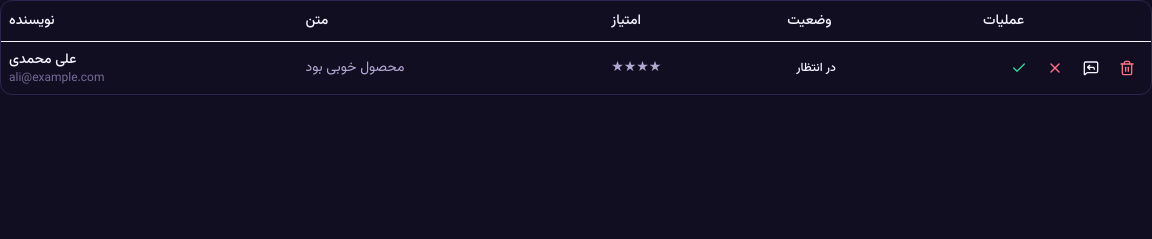
Test: CommentModerationTable › reply toggle › shows reply form when پاسخ clicked
Click the button named "پاسخ" at (1091, 68), box [1075,52,1107,84]
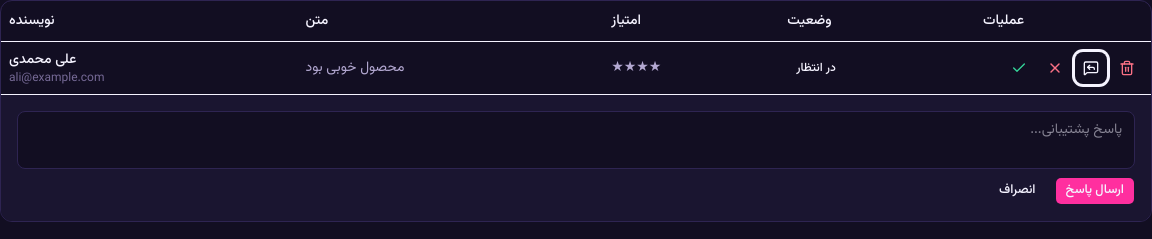
Expected: the text box with placeholder "پاسخ پشتیبانی..." is shown, [17,110,1135,168]
